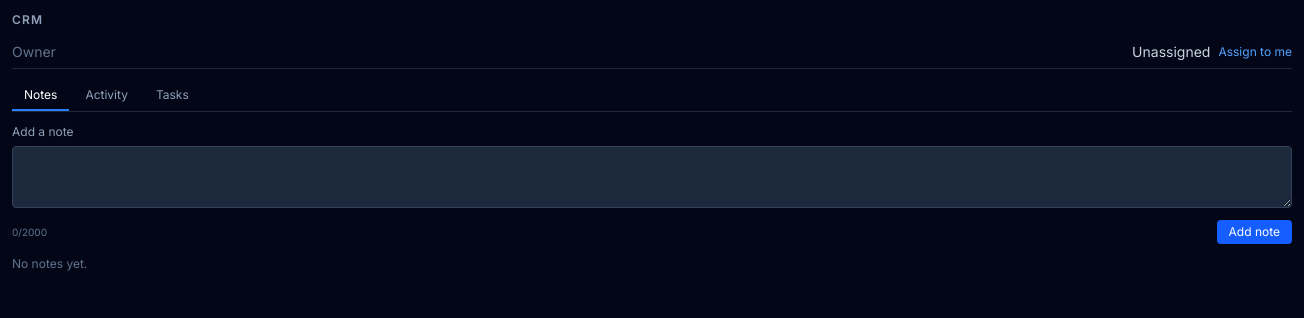
Test case: LeadCrmPanelComponent › adds a note, clears the form and lists it with a delete action
In the text box with id "crm-note-body": (652, 177) [12,146,1292,208], type "  Call them next week "
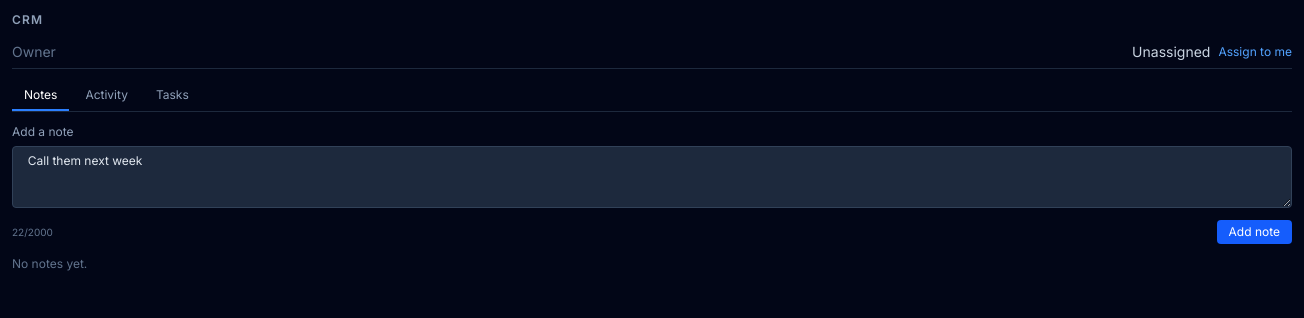
Expected: the text "22/2000" is shown, [12,224,53,240]
Submit the form, box [12,124,1292,244]
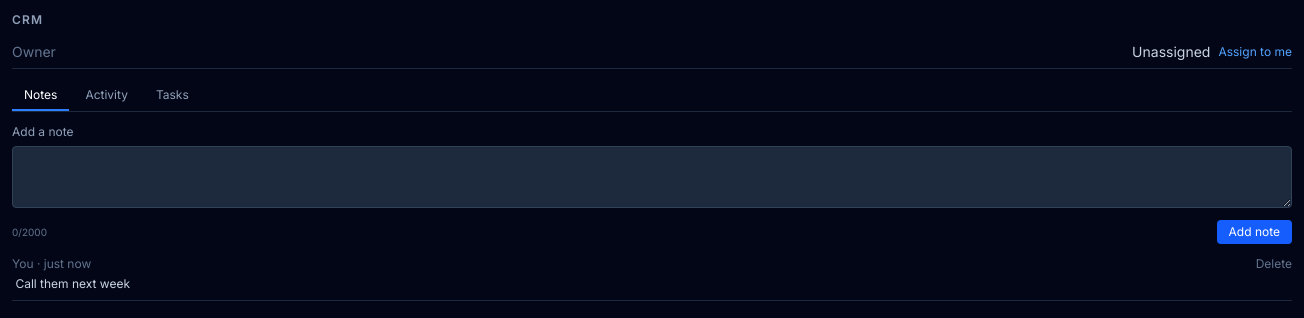
Expected: the list item with test id "crm-note" shows "Call them next week", [12,276,133,291]
Expected: the list item with test id "crm-note" shows "You", [12,256,91,271]
Expected: the text box with id "crm-note-body" is empty, [12,146,1292,208]
Click the button with aria-label "Delete this note": click(1274, 264) [1256,256,1292,272]
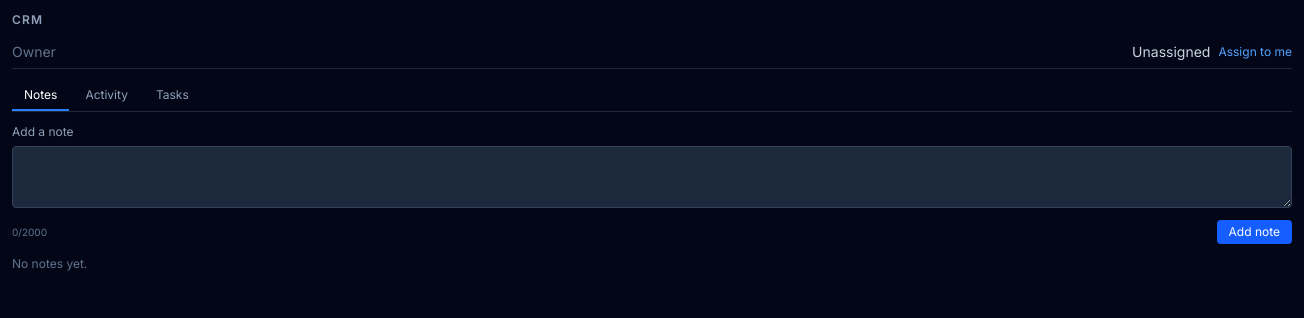
Expected: the text "No notes yet." is shown, [12,256,87,271]
